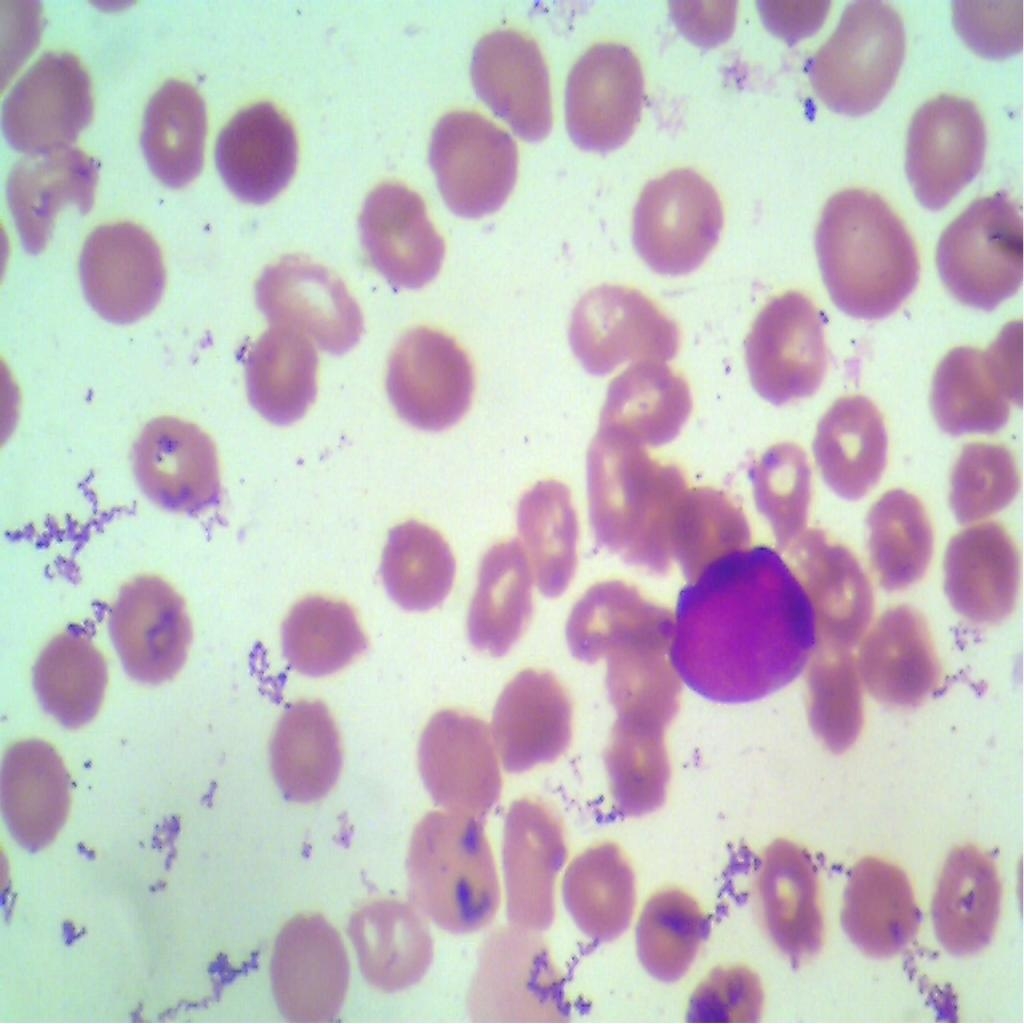Eritrosit: (806, 175, 920, 325), (118, 390, 232, 536), (243, 238, 363, 354), (562, 274, 696, 375), (71, 214, 182, 334), (738, 275, 836, 409), (348, 178, 454, 301), (396, 807, 506, 925), (796, 0, 902, 122), (376, 315, 484, 432), (0, 731, 93, 864), (460, 17, 554, 144), (424, 100, 524, 219), (935, 191, 1023, 325), (562, 31, 652, 161), (261, 892, 350, 1023), (899, 86, 989, 214), (204, 91, 299, 211), (129, 61, 211, 200), (0, 52, 103, 162), (633, 157, 728, 275), (280, 574, 378, 688), (594, 714, 688, 832), (450, 532, 532, 665), (922, 829, 1004, 959), (418, 691, 506, 811), (113, 561, 193, 691), (30, 620, 124, 730), (1, 145, 106, 241), (750, 838, 828, 966), (488, 668, 578, 778), (658, 482, 750, 588), (244, 315, 324, 434), (922, 351, 1018, 450), (636, 879, 723, 988), (830, 838, 918, 945), (939, 522, 1023, 634), (370, 505, 458, 611), (344, 885, 433, 988), (569, 581, 666, 674), (499, 804, 571, 927), (584, 425, 656, 545), (276, 705, 353, 817), (806, 394, 889, 497), (602, 354, 688, 452), (866, 488, 942, 598), (862, 614, 942, 715), (795, 534, 874, 634), (570, 842, 641, 944), (690, 942, 776, 1023), (603, 641, 683, 728), (515, 484, 576, 598), (619, 458, 681, 565), (751, 432, 818, 531), (946, 440, 1023, 525), (818, 642, 866, 754)
Limfoblast: (674, 544, 822, 708)
